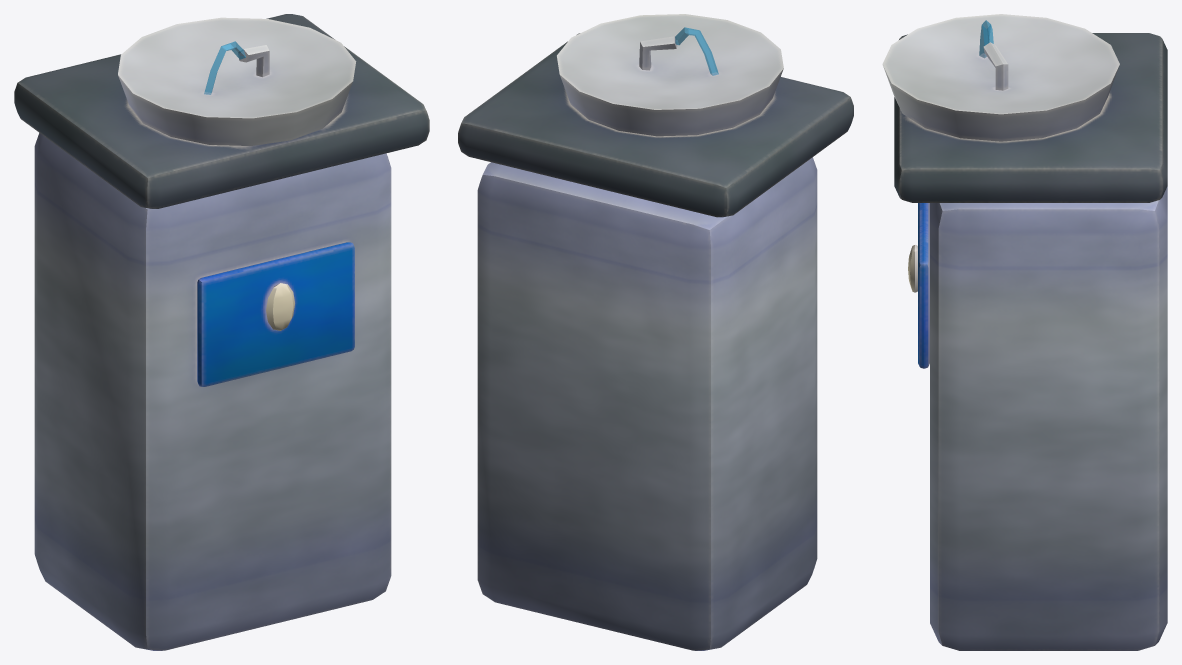
The model's file is water_fountain.glb.
3 renders of one model, left to right at view 1: azimuth 30°, elevation 25°; view 2: azimuth 150°, elevation 25°; view 3: azimuth 270°, elevation 25°, orthographic. The views are drawn at different scales.
Visible parts, largest first — view 1: SM_WaterFountain; view 2: SM_WaterFountain; view 3: SM_WaterFountain.
Part boxes in pixels (<box>): SM_WaterFountain: <box>14,14,429,650</box>; SM_WaterFountain: <box>458,14,853,650</box>; SM_WaterFountain: <box>882,14,1167,650</box>.
Size of what is drawn, in the model's own units: 0.56 by 1.06 by 0.48.
2 materials, 1 textured.
